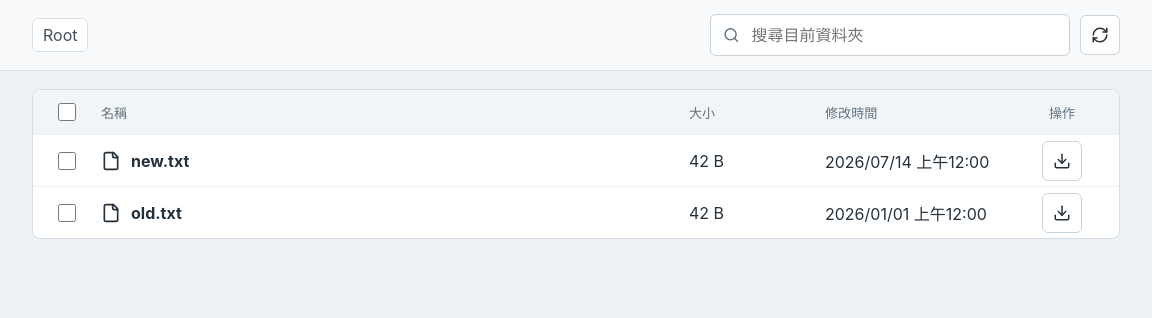
DriveView batch downloads › requests selected files in displayed modification-time order
Click the checkbox named "選取 old.txt".
click(67, 212)  # box left=58, top=204, right=76, bottom=222
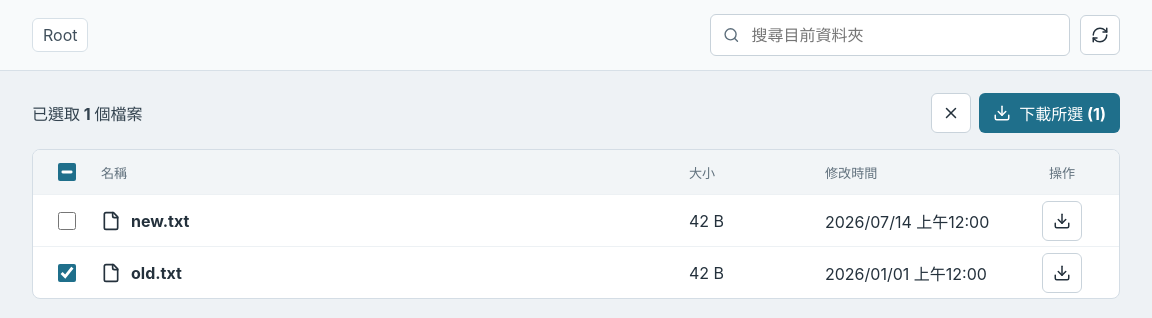
Click the checkbox named "選取 new.txt".
click(67, 220)  # box left=58, top=212, right=76, bottom=230
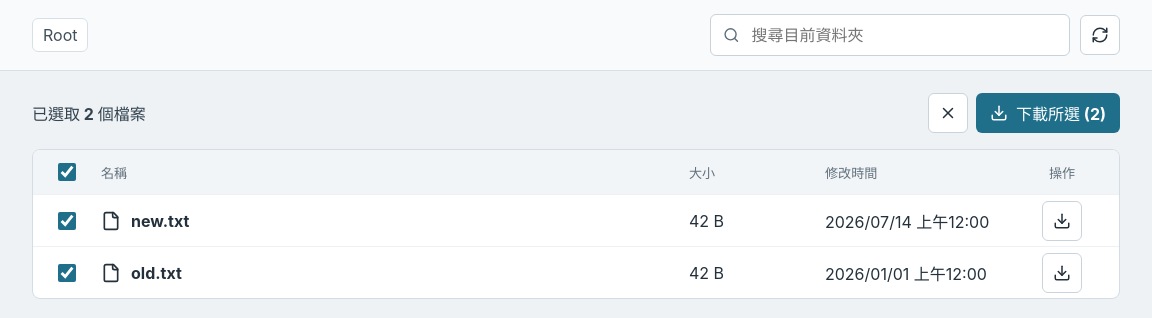
Click the button "下載所選 (2)".
click(1048, 113)  # box left=976, top=93, right=1120, bottom=133
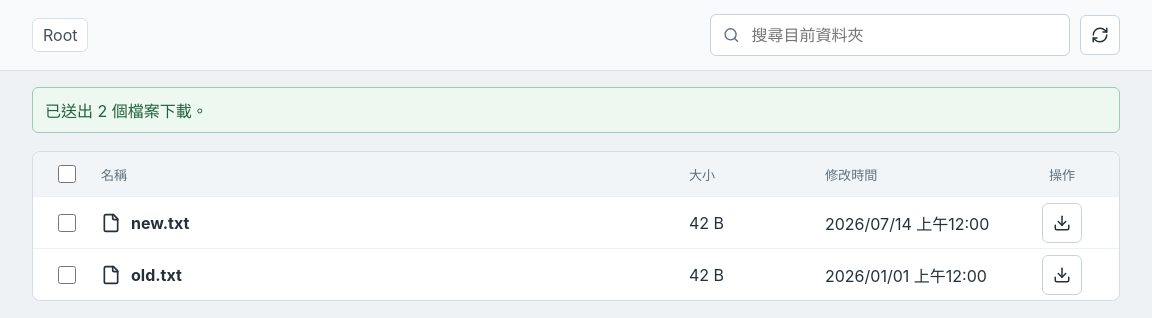
Check: the message shows "已送出 2 個檔案下載", box left=45, top=101, right=208, bottom=121
Check: the button "下載所選 (2)" is gone
